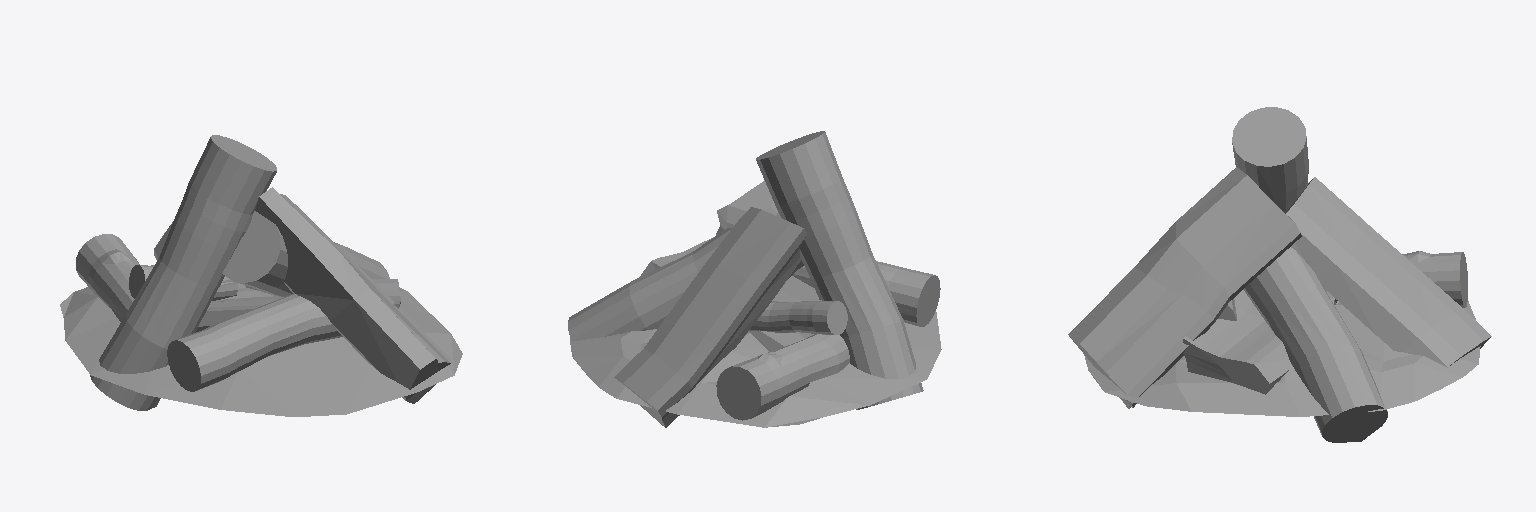
Rendered from Campfire_2.obj.
3 views of the same model, side by side, from view 1: azimuth 30°, elevation 25°; view 2: azimuth 150°, elevation 25°; view 3: azimuth 270°, elevation 25° (orthographic).
Visible parts, largest first — view 1: Plane; view 2: Plane; view 3: Plane.
Part boxes in pixels (x1,y1,x2,y2): Plane: (60,135,462,416); Plane: (568,131,941,427); Plane: (1068,107,1491,442).
Bounding box in the file's own units: 1.78 × 1.33 × 2.01.